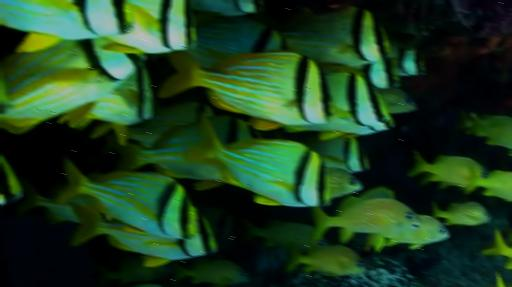Fish: (157, 52, 332, 129), (0, 39, 141, 133), (185, 114, 329, 206), (55, 158, 203, 238), (72, 204, 216, 267), (57, 64, 155, 145), (283, 68, 393, 139), (281, 8, 390, 69), (0, 0, 136, 48), (115, 123, 222, 180), (312, 187, 418, 242), (187, 13, 285, 68), (105, 0, 195, 52), (17, 179, 102, 223), (129, 103, 213, 147), (409, 151, 487, 189), (365, 216, 447, 251), (286, 245, 364, 275), (244, 220, 322, 250), (306, 135, 368, 172), (96, 256, 172, 285), (385, 215, 448, 248), (172, 259, 248, 286), (199, 207, 243, 250), (458, 111, 511, 145), (432, 201, 490, 225), (361, 57, 399, 88), (326, 167, 362, 198), (467, 172, 511, 197), (193, 0, 263, 15), (0, 159, 22, 205), (378, 88, 416, 114), (392, 46, 424, 76), (482, 231, 511, 256), (0, 81, 10, 112), (503, 273, 511, 286), (142, 283, 159, 286), (506, 232, 511, 235)
